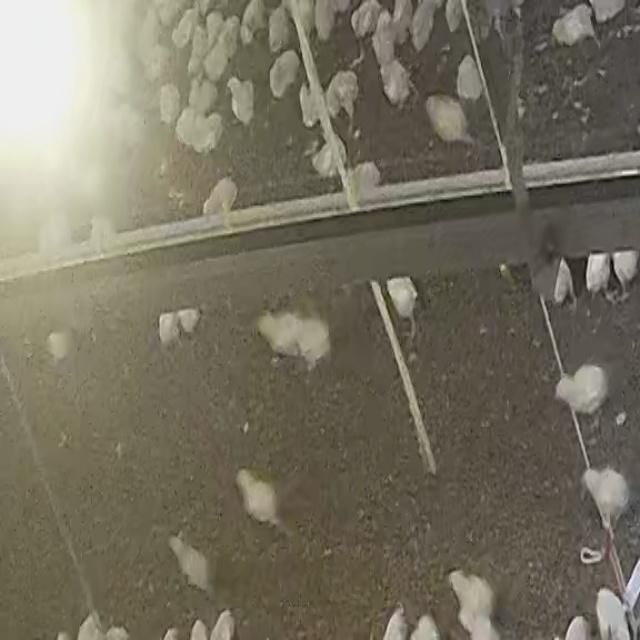chicken: (546, 361, 614, 420), (232, 462, 286, 528), (580, 466, 632, 531), (165, 532, 216, 594), (444, 568, 502, 620), (421, 89, 474, 145), (174, 107, 225, 154), (377, 60, 420, 112), (325, 71, 365, 119), (227, 73, 260, 129), (265, 48, 303, 96), (240, 2, 266, 44)
